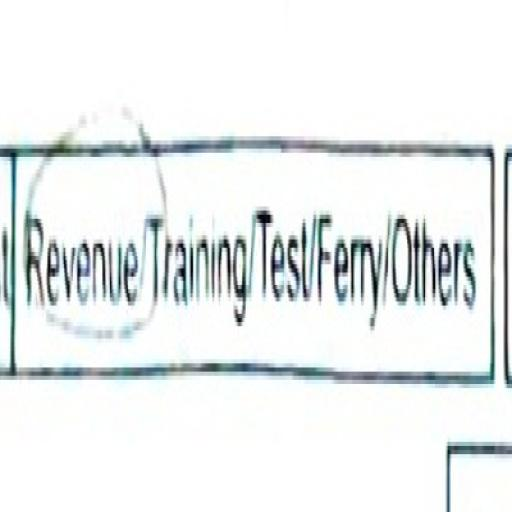check: (11, 88, 146, 392)
